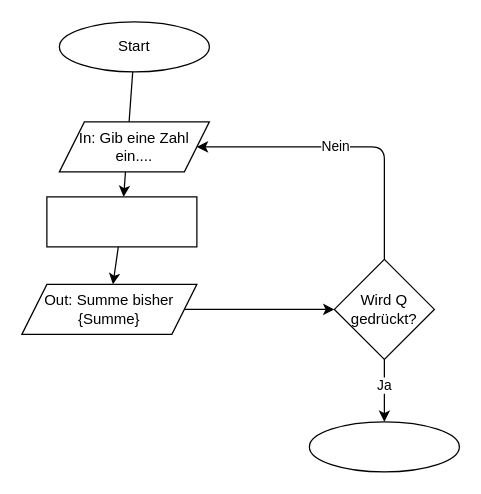
Some shapes in this 481 by 494 pixel diagram are drawn without their labels. The centre of each missing label's shape, as x and y in pixels:
Ende: (x=383, y=446)
Operation {Eingabe} + Alles vorherige: (x=121, y=221)
